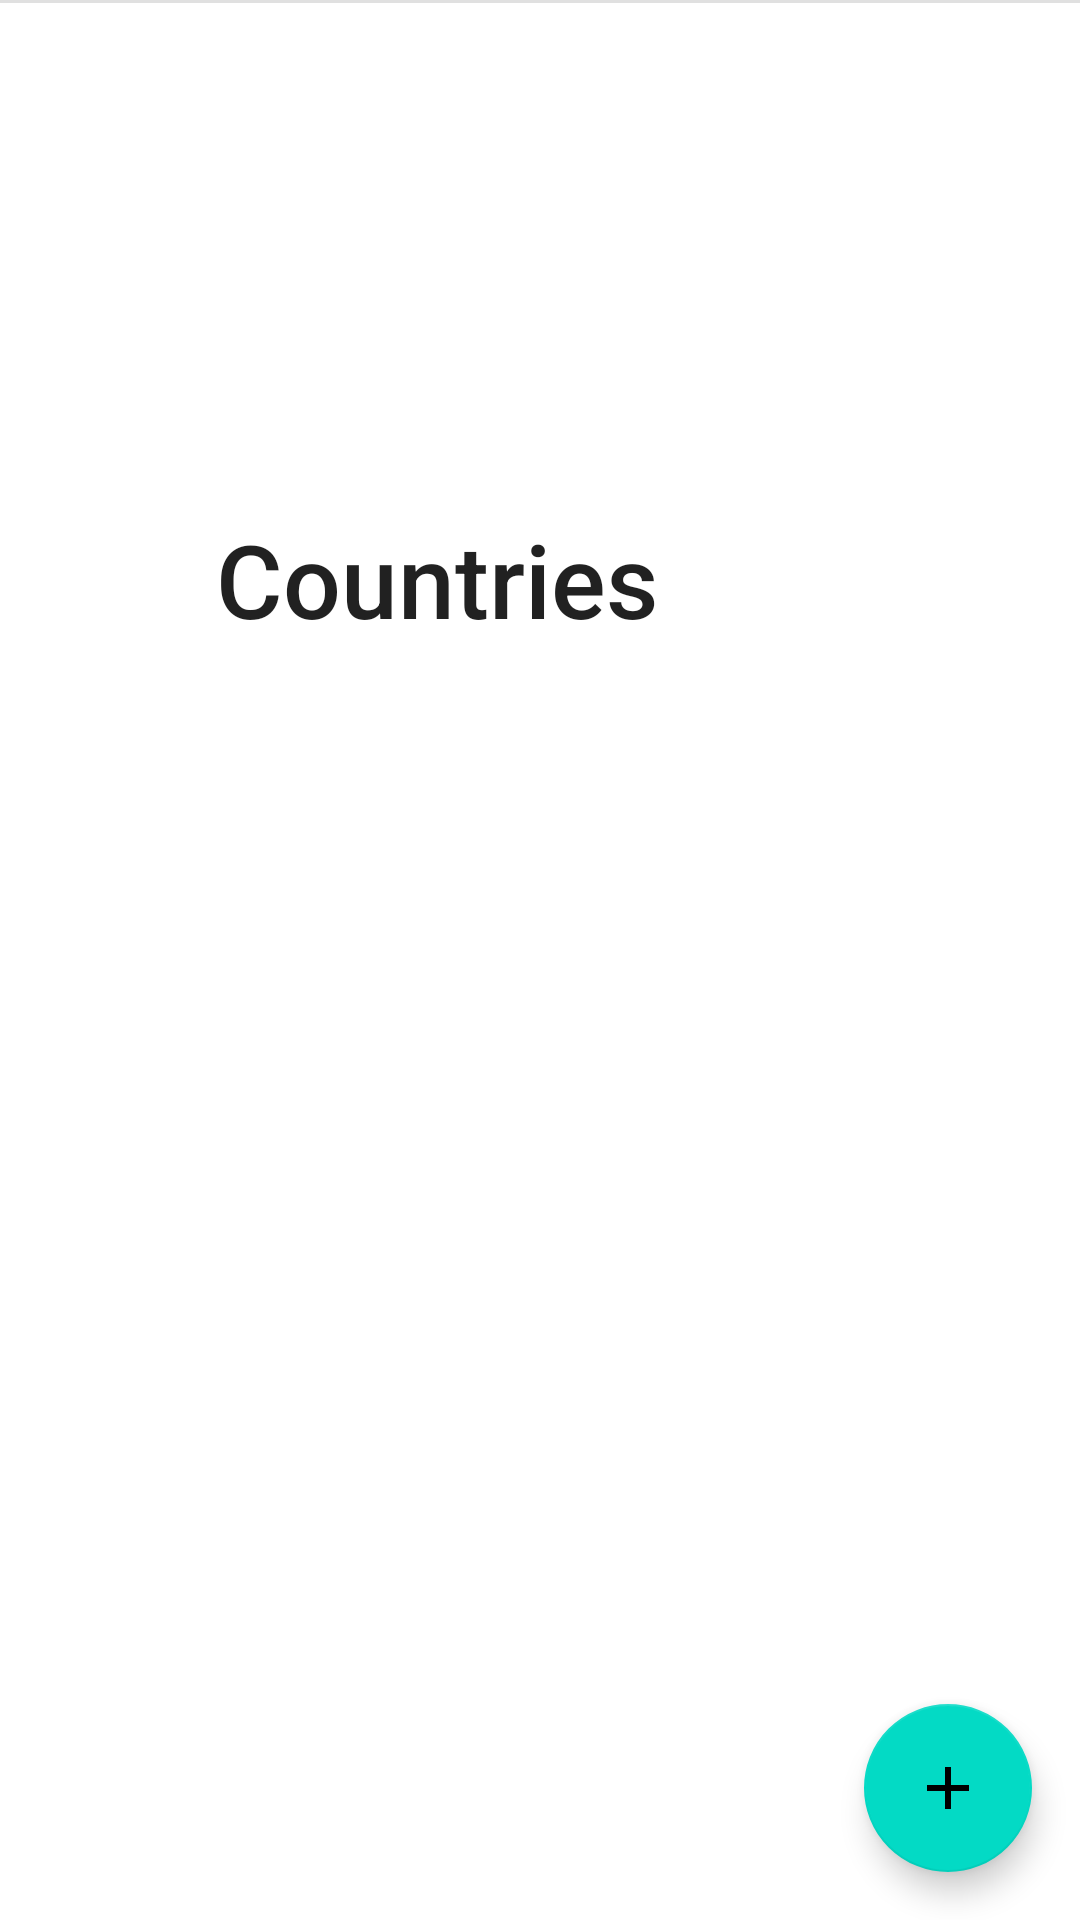

Point at icon controls on the screen. Image size 1080px×1920px, points as (x,y).
Add Trip: (948,1788)
